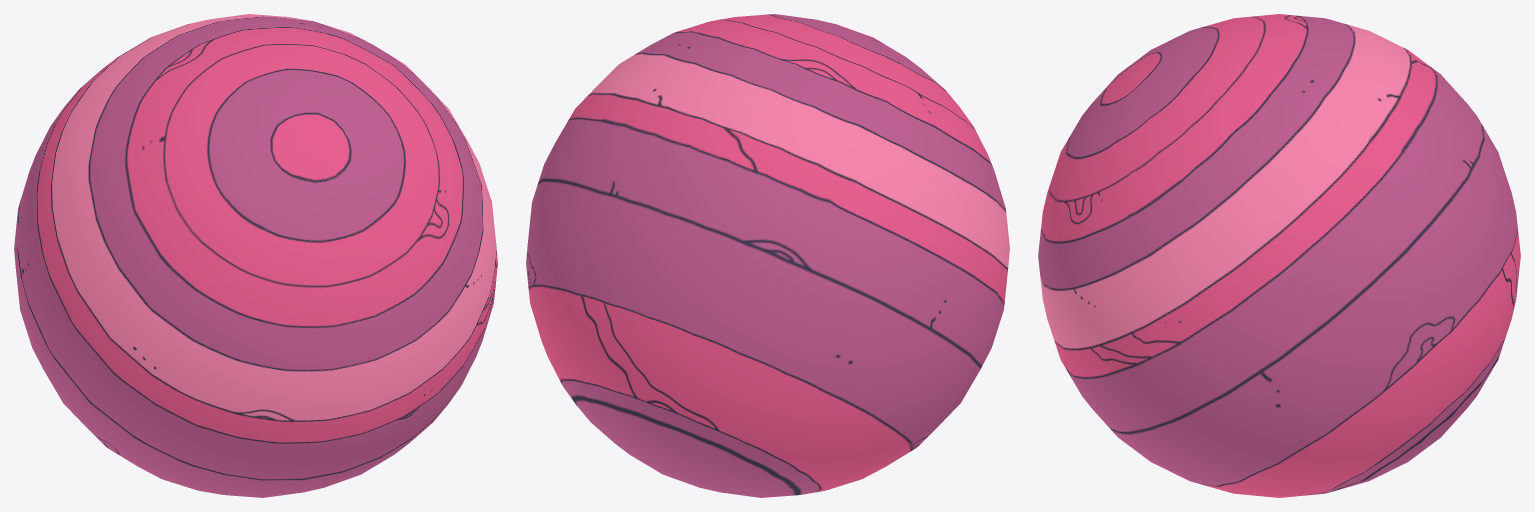
The model's file is SolarBaseMeshSmoothShading.glb.
3 views of the same model, side by side, from view 1: azimuth 30°, elevation 25°; view 2: azimuth 150°, elevation 25°; view 3: azimuth 270°, elevation 25° (orthographic).
Visible parts, largest first — view 1: BaseModel; view 2: BaseModel; view 3: BaseModel.
Boxes of the visible parts, <box> form: BaseModel: <box>14,14,497,497</box>; BaseModel: <box>526,14,1009,497</box>; BaseModel: <box>1038,14,1520,497</box>.
Bounding box in the file's own units: 1.7 × 1.7 × 1.7.
Materials: 1 (1 with a texture image).
